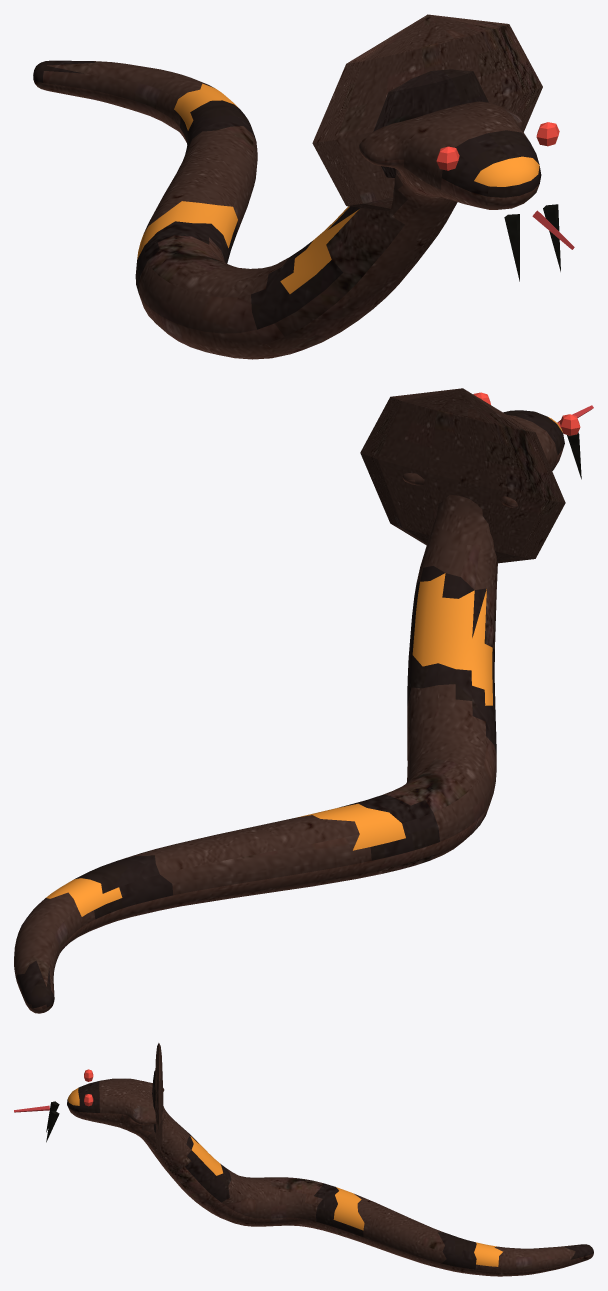
The model's file is boss_07.glb.
The picture shows the model from 3 angles, top to bottom: view 1: azimuth 30°, elevation 25°; view 2: azimuth 150°, elevation 25°; view 3: azimuth 270°, elevation 25°; orthographic projection. The views are drawn at different scales.
Parts seen in each view (by area): view 1: boss_07; view 2: boss_07; view 3: boss_07.
Part boxes in pixels (<box>): boss_07: <box>33,14,574,359</box>; boss_07: <box>14,388,593,1013</box>; boss_07: <box>14,1043,593,1276</box>.
Bounding box in the file's own units: 1.3 × 1.78 × 4.69.
7 materials, 7 textured.
